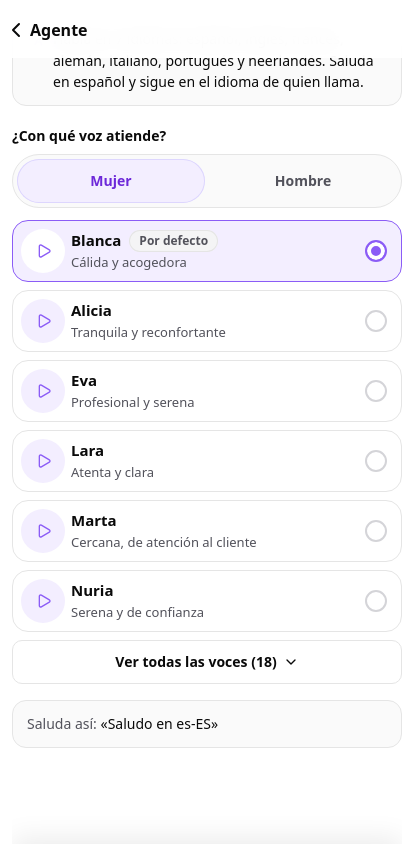
Test: ComportamientoMovil — idioma y voz › si el backend rechaza el guardado, enseña su motivo
(page scrolled)
Sin el plan cargado no hay candados: lo valida el backend.
What coordinates should you click on to do the following:
click the radio button labelled "Lara Atenta y clara"
I would click on:
 (88, 450)
Its box is x1=71 y1=435 x2=387 y2=487.
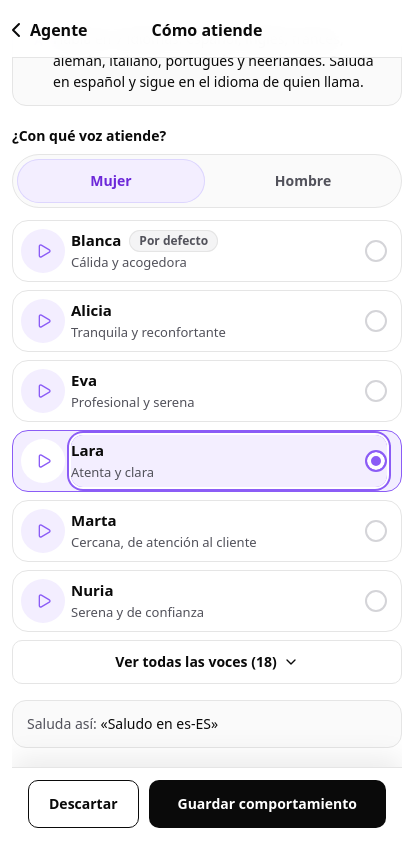
What coordinates should you click on to do the following:
click the button "Guardar comportamiento"
I would click on:
 (267, 804)
Its box is x1=148 y1=780 x2=386 y2=828.
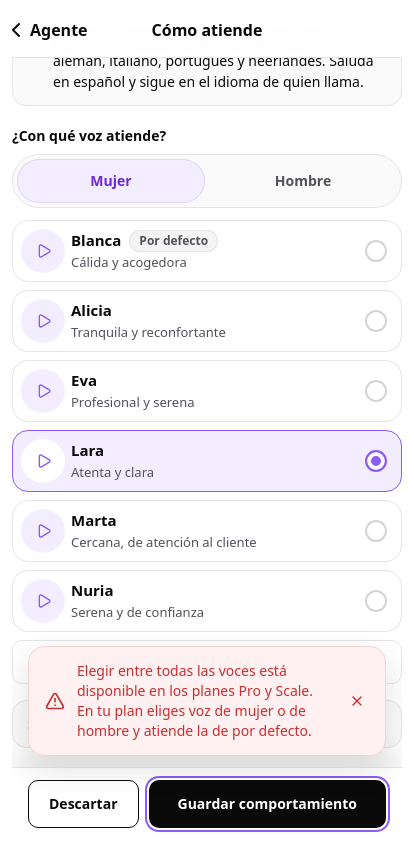
Result: the text "Elegir entre todas las voces está disponible en los planes Pro y Scale. En tu plan eliges voz de mujer o de hombre y ati" is shown at x1=77 y1=661 x2=313 y2=740
